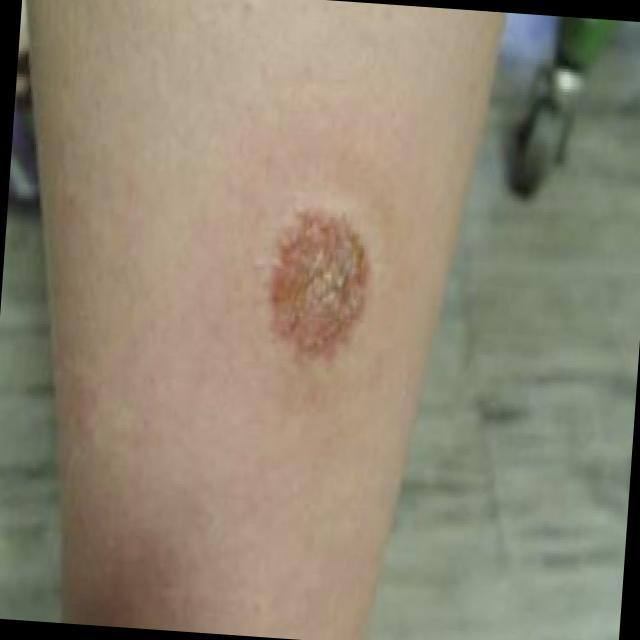Eczema: (272, 212, 383, 356)
